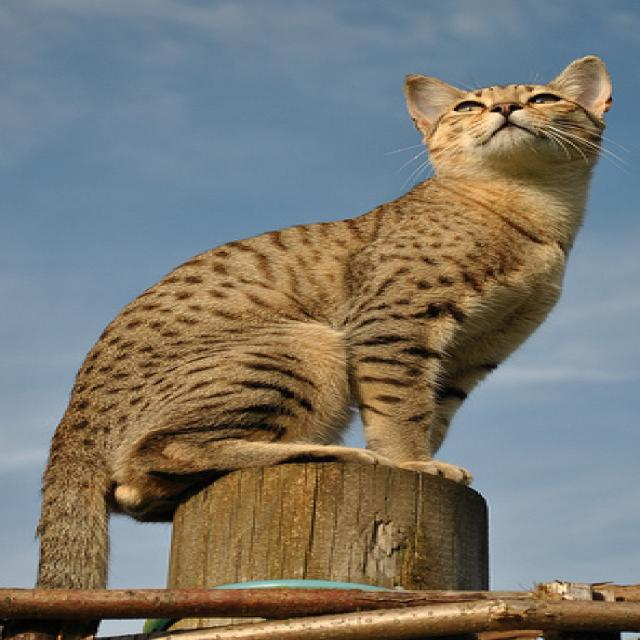Egyptian Mau: (29, 53, 616, 589)
